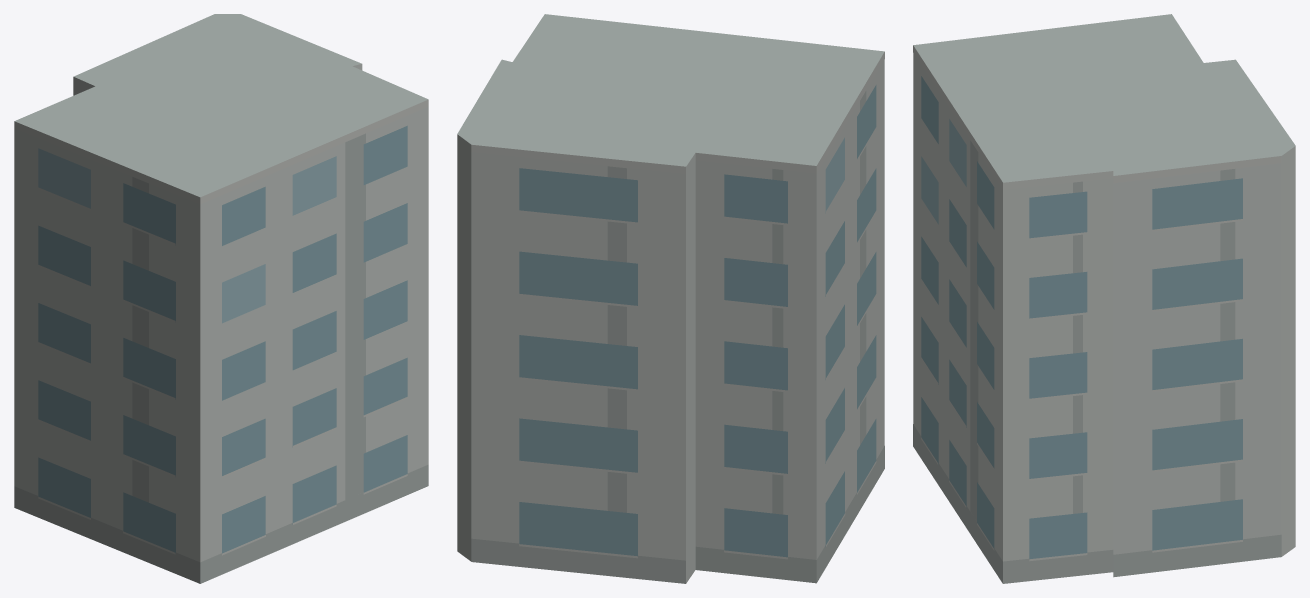
The model's file is survey-upis-32566972.glb.
3 views of the same model, side by side, from view 1: azimuth 30°, elevation 25°; view 2: azimuth 150°, elevation 25°; view 3: azimuth 270°, elevation 25° (orthographic). The views are drawn at different scales.
Visible parts, largest first — view 1: survey-upis-32566972.tmp; view 2: survey-upis-32566972.tmp; view 3: survey-upis-32566972.tmp.
Boxes of the visible parts, box(x1,y1,x2,y2) form: survey-upis-32566972.tmp: box(14, 14, 428, 583); survey-upis-32566972.tmp: box(457, 14, 884, 583); survey-upis-32566972.tmp: box(913, 14, 1295, 583).
Size of the model in its own units: 12.01 by 13.3 by 11.51.
